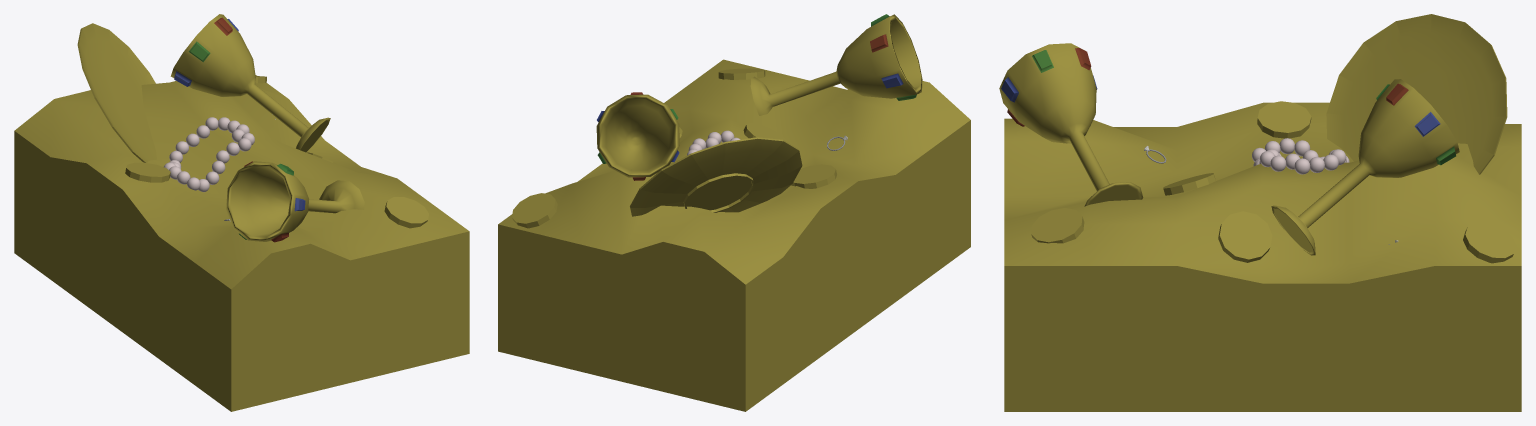
Rendered from treasure.fbx.
The picture shows the model from 3 angles, left to right: view 1: azimuth 30°, elevation 25°; view 2: azimuth 150°, elevation 25°; view 3: azimuth 270°, elevation 25°; orthographic projection. The views are drawn at different scales.
Visible parts, largest first — view 1: gold, chalice01, chalice02, plate, pearlNecklace, coin03, coin05; view 2: gold, plate, chalice01, chalice02, coin01, coin05, pearlNecklace, coin03, coin04; view 3: gold, plate, chalice01, chalice02, pearlNecklace, coin02, coin05, coin01, coin03, coin04.
Part boxes in pixels (x1,y1,x2,y2): gold: (14, 75, 469, 411); chalice01: (226, 161, 364, 242); chalice02: (170, 14, 330, 152); plate: (77, 23, 156, 162); pearlNecklace: (164, 117, 254, 192); coin03: (384, 197, 428, 228); coin05: (125, 162, 170, 182); gold: (498, 59, 970, 411); plate: (630, 137, 802, 216); chalice01: (750, 14, 922, 115); chalice02: (596, 92, 679, 180); coin01: (512, 193, 557, 228); coin05: (791, 164, 836, 188); pearlNecklace: (687, 130, 740, 155); coin03: (718, 68, 765, 79); coin04: (743, 123, 787, 142); gold: (1004, 102, 1521, 411); plate: (1326, 14, 1507, 174); chalice01: (999, 43, 1143, 206); chalice02: (1271, 79, 1459, 255); pearlNecklace: (1252, 138, 1349, 174); coin02: (1218, 211, 1272, 262); coin05: (1257, 101, 1311, 138); coin01: (1463, 222, 1516, 263); coin03: (1031, 208, 1084, 243); coin04: (1163, 173, 1215, 195).
Size of the model in its own units: 51.87 by 48.52 by 82.53.
